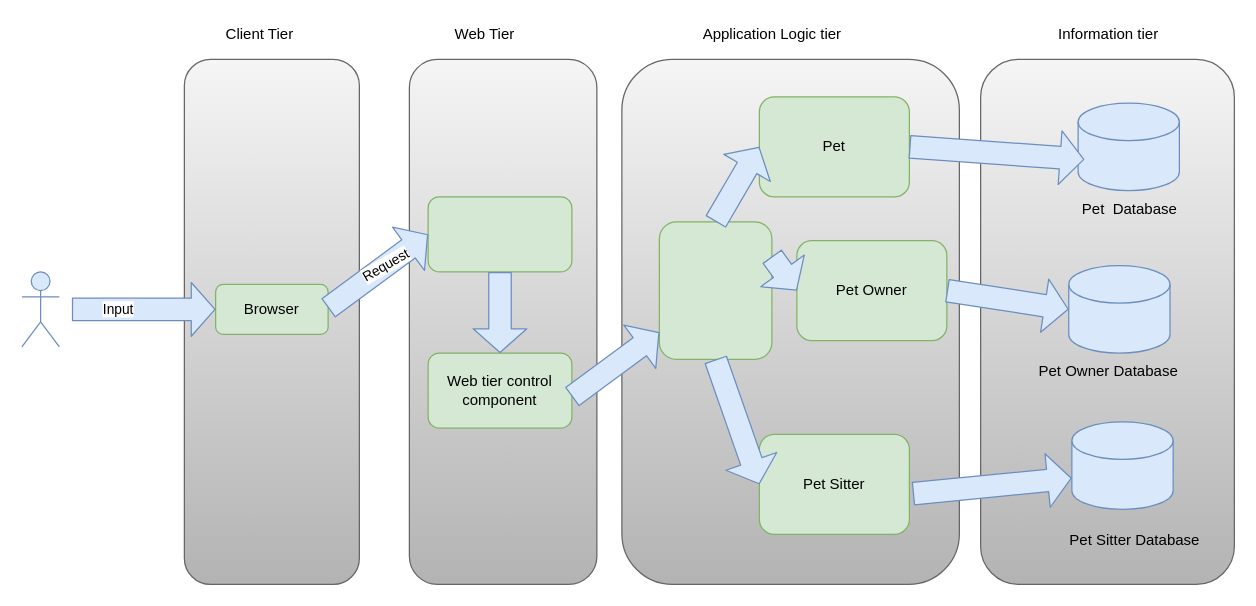
This 1256x606 diagram has some shape labels left out. The shapes that lost their labels are listed below. From the top down, each one's box as (x1, y1, x2, y2) in pixels, then its label:
(427, 196, 572, 272): Web front-end component
(21, 271, 59, 347): User
(658, 221, 772, 359): Control component
